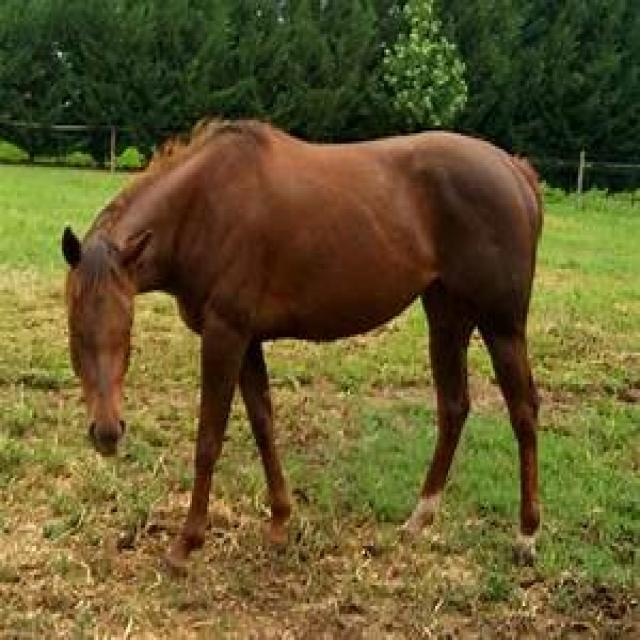horse: (60, 120, 546, 572)
